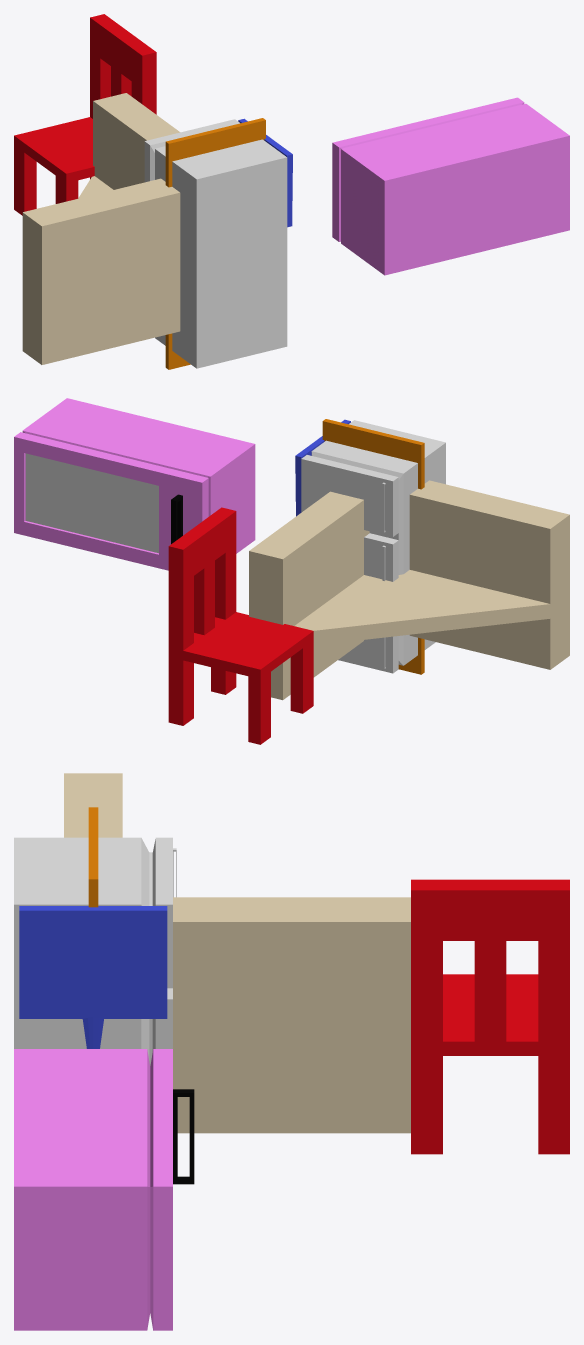
File: Chair0001.fbx
3 renders of one model, top to bottom at view 1: azimuth 30°, elevation 25°; view 2: azimuth 150°, elevation 25°; view 3: azimuth 270°, elevation 25°, orthographic. The views are drawn at different scales.
Parts seen in each view (by area): view 1: Microwave, Desk, Fridge, Cube, Door, Cylinder; view 2: Desk, Microwave, Cube, Fridge, Door, Cylinder; view 3: Desk, Microwave, Cube, Cylinder, Fridge, Door.
Part boxes in pixels (x1=…): Microwave: x1=332, y1=97, x2=569, y2=275; Desk: x1=22, y1=93, x2=180, y2=364; Fridge: x1=144, y1=119, x2=287, y2=368; Cube: x1=14, y1=14, x2=156, y2=215; Door: x1=165, y1=118, x2=265, y2=369; Cylinder: x1=238, y1=118, x2=292, y2=227; Desk: x1=249, y1=480, x2=569, y2=700; Microwave: x1=14, y1=398, x2=255, y2=570; Cube: x1=168, y1=507, x2=313, y2=744; Fridge: x1=301, y1=420, x2=445, y2=673; Door: x1=322, y1=419, x2=424, y2=674; Cylinder: x1=295, y1=419, x2=350, y2=516; Desk: x1=64, y1=773, x2=410, y2=1133; Microwave: x1=14, y1=1049, x2=194, y2=1330; Cube: x1=411, y1=879, x2=569, y2=1154; Cylinder: x1=19, y1=906, x2=167, y2=1048; Fridge: x1=14, y1=837, x2=176, y2=1066; Door: x1=88, y1=807, x2=98, y2=907.
Bounding box in the file's own units: 1131 × 478 × 700.
